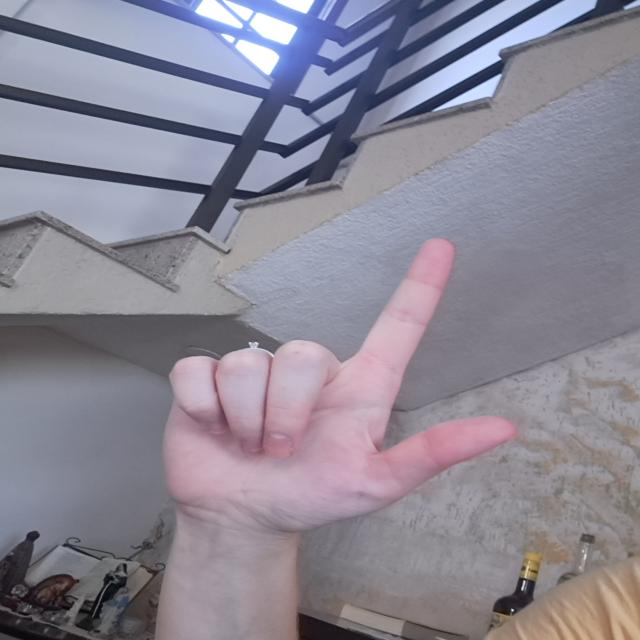L: (149, 227, 526, 555)
